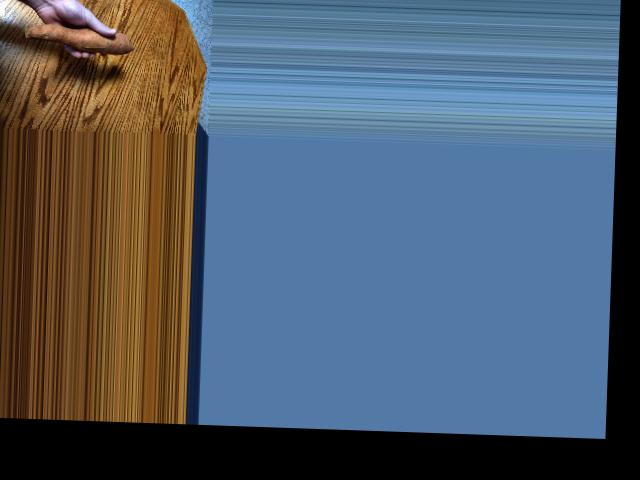sweet_potato: (19, 20, 136, 58)
